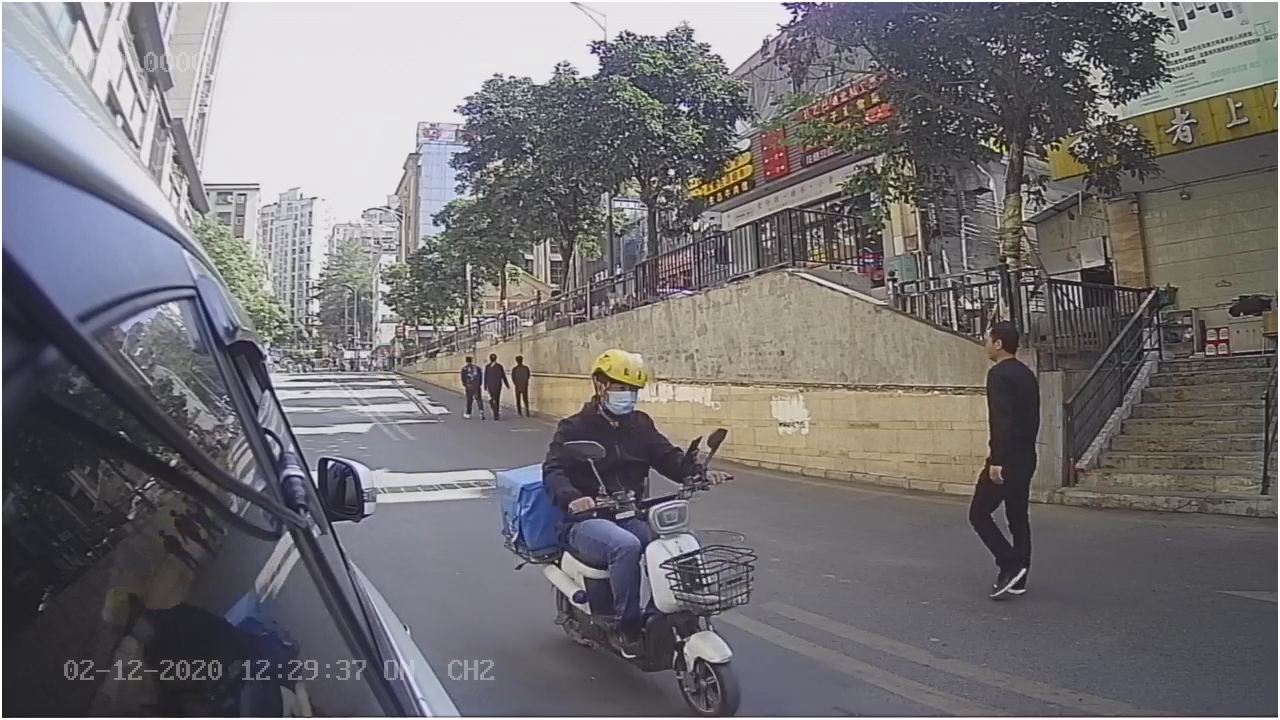person: (531, 348, 684, 511), (968, 314, 1045, 599)
